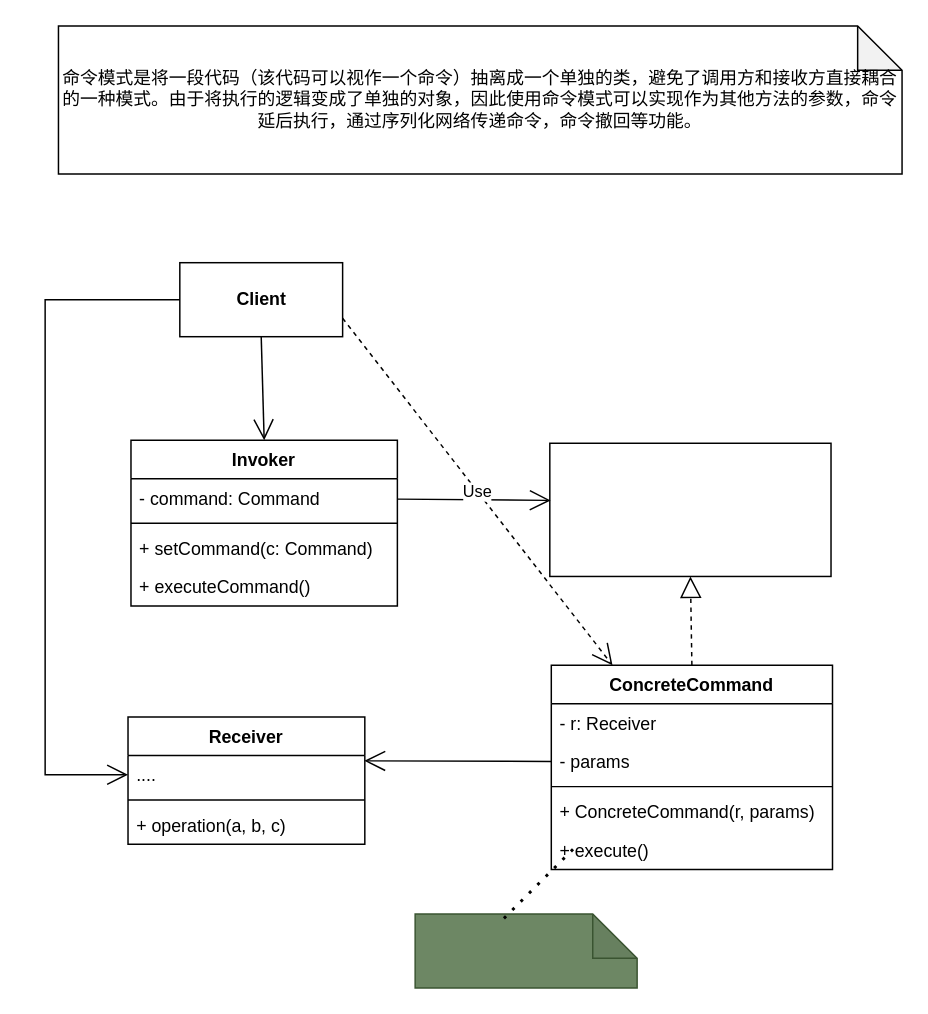
This 928x1014 diagram has some shape labels left out. Here are the shapes that lost their labels. From the top down, the centre of each, then its label:
At point (689, 509): "<<Interface>> Command + execute()".
At point (525, 950): "r.operation(params)".
